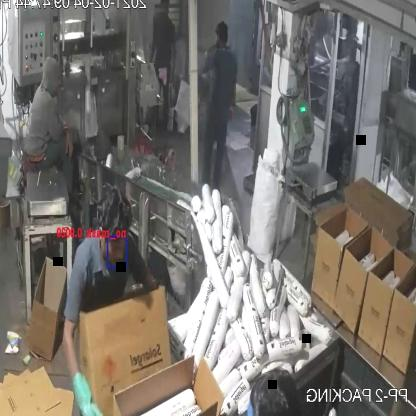glove: (70, 351, 114, 416)
no_glove: (60, 123, 78, 163), (167, 39, 179, 90), (227, 74, 238, 127), (146, 32, 158, 69)
